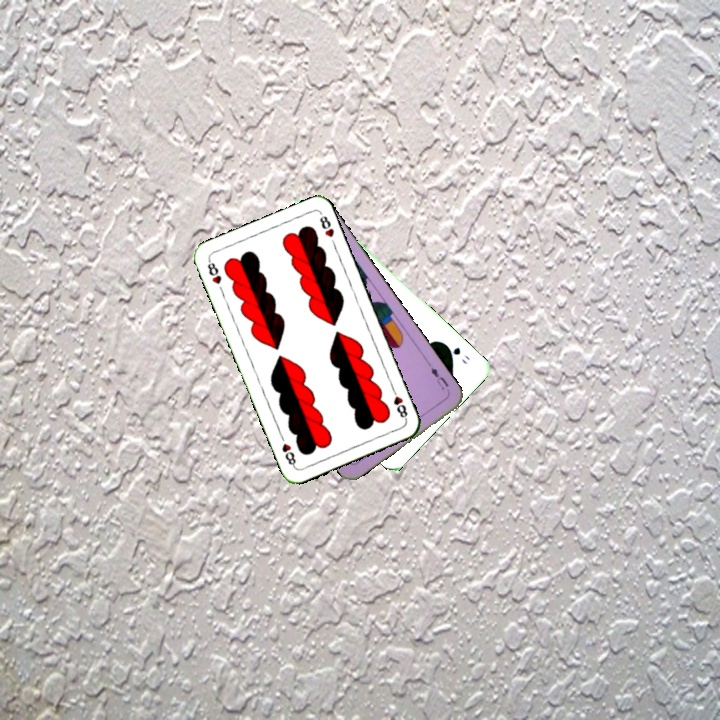EU: (424, 360, 451, 393)
GO: (441, 340, 472, 367)
H8: (388, 384, 410, 423), (203, 256, 224, 287)
